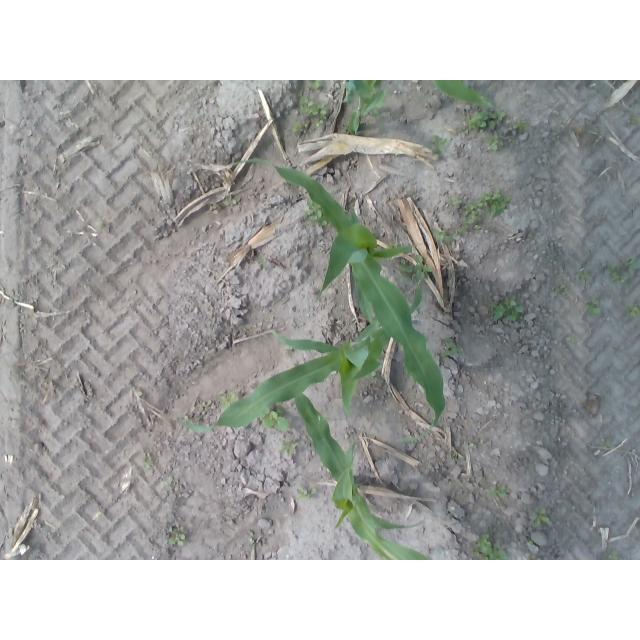Maize: (232, 159, 445, 427), (179, 278, 425, 434), (295, 393, 431, 560), (343, 80, 490, 137)
Weeds: (490, 296, 522, 323), (483, 190, 509, 215), (263, 409, 289, 431), (415, 255, 433, 280), (443, 339, 464, 358), (464, 200, 484, 217), (169, 527, 186, 546), (470, 111, 487, 129), (306, 201, 322, 220), (282, 440, 299, 456), (433, 229, 452, 243), (296, 488, 317, 500), (535, 509, 549, 527), (484, 549, 506, 560), (491, 483, 506, 499), (625, 256, 639, 272), (300, 98, 314, 114), (398, 259, 413, 273), (491, 133, 502, 152), (584, 300, 600, 313), (485, 114, 498, 130), (434, 136, 445, 153), (313, 104, 327, 117), (476, 533, 491, 545), (221, 393, 236, 404), (144, 452, 153, 469), (293, 123, 308, 133), (603, 550, 617, 560), (577, 272, 592, 281), (481, 543, 492, 554), (447, 198, 461, 206), (515, 121, 525, 132), (611, 273, 621, 283), (605, 264, 615, 274), (471, 213, 481, 223), (497, 110, 506, 121), (313, 219, 327, 226), (556, 286, 568, 294), (631, 304, 639, 316), (310, 80, 321, 88), (225, 200, 237, 207), (462, 221, 471, 230), (400, 273, 408, 283), (204, 400, 213, 408), (605, 443, 615, 450), (565, 338, 575, 343), (97, 221, 105, 227), (168, 476, 174, 484), (451, 452, 459, 458), (184, 410, 189, 419), (259, 256, 266, 262), (316, 120, 322, 127), (631, 117, 638, 123), (453, 230, 463, 234), (137, 392, 143, 396)
